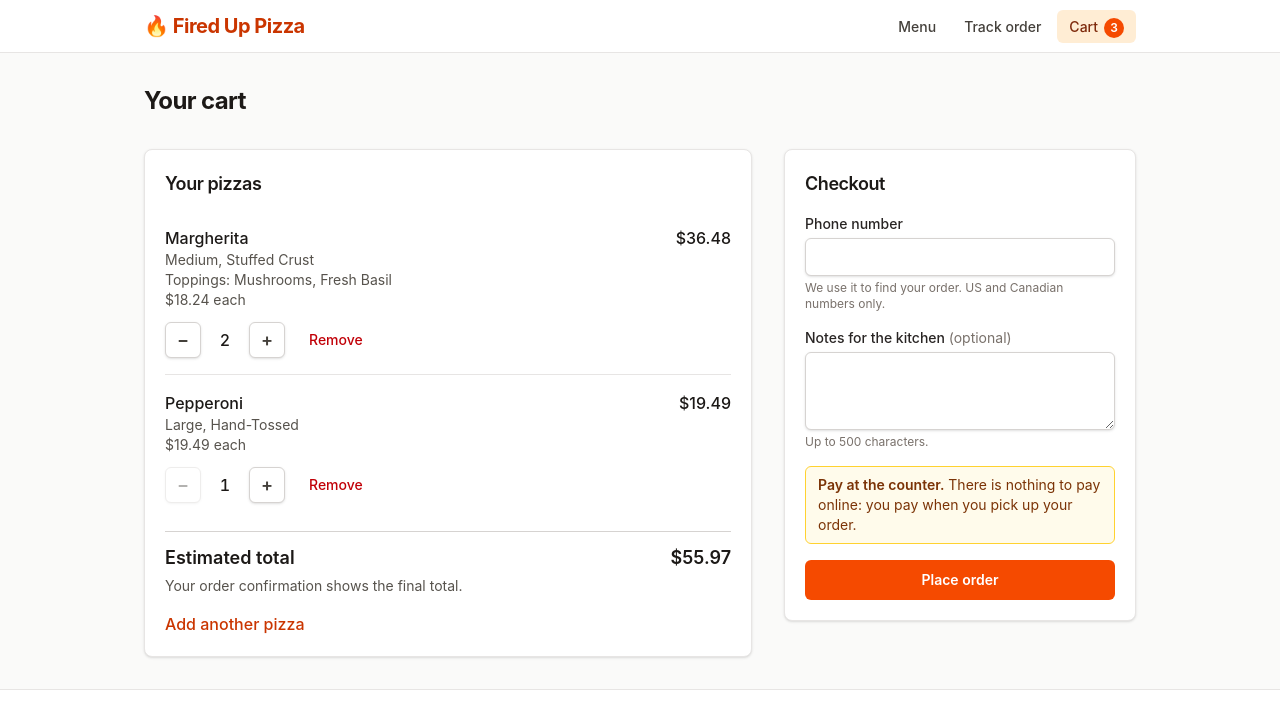
Test: CartPage › lines › changes a line's quantity with its buttons and updates every total
Click the button named "Increase quantity of Pepperoni".
click(267, 485)  # box [249, 467, 285, 503]
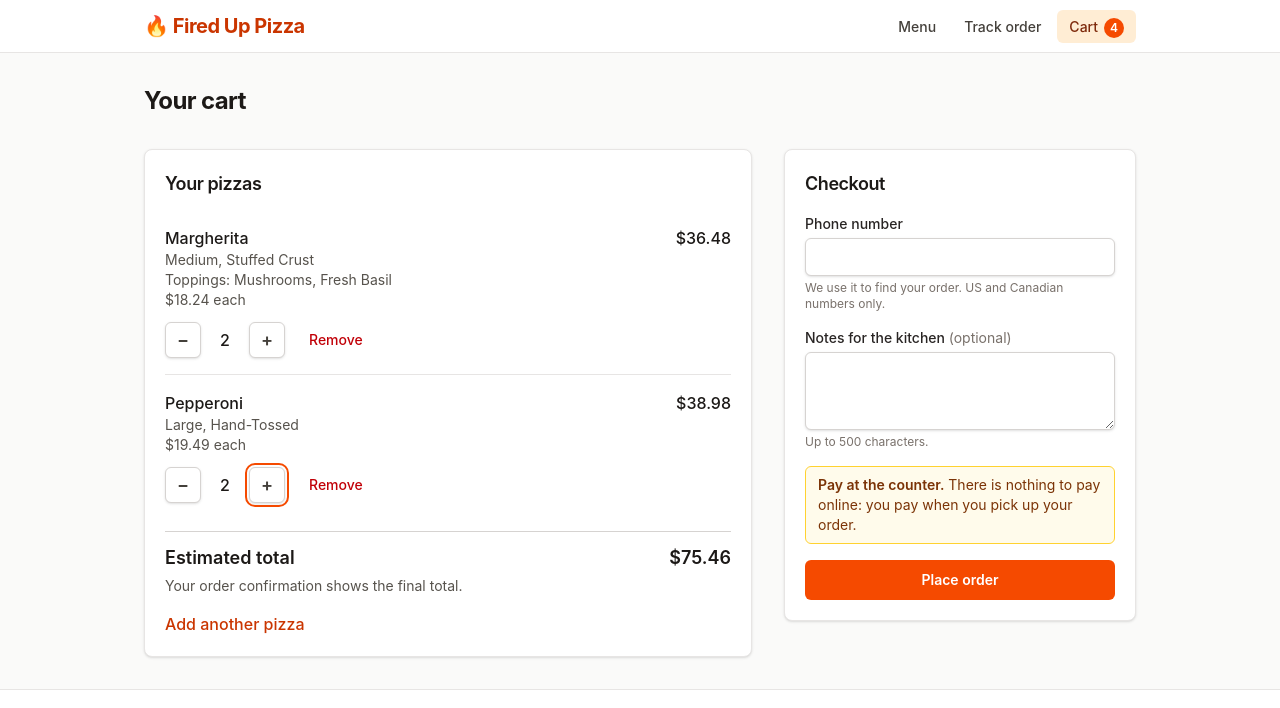
Result: the text named "Quantity of Pepperoni" reads "2" at [220, 475, 230, 495]
Result: the link with aria-label "Cart, 4 items" is shown at [1057, 10, 1136, 43]
Click the button named "Decrease quantity of Margherita".
click(183, 340)  # box [165, 322, 201, 358]
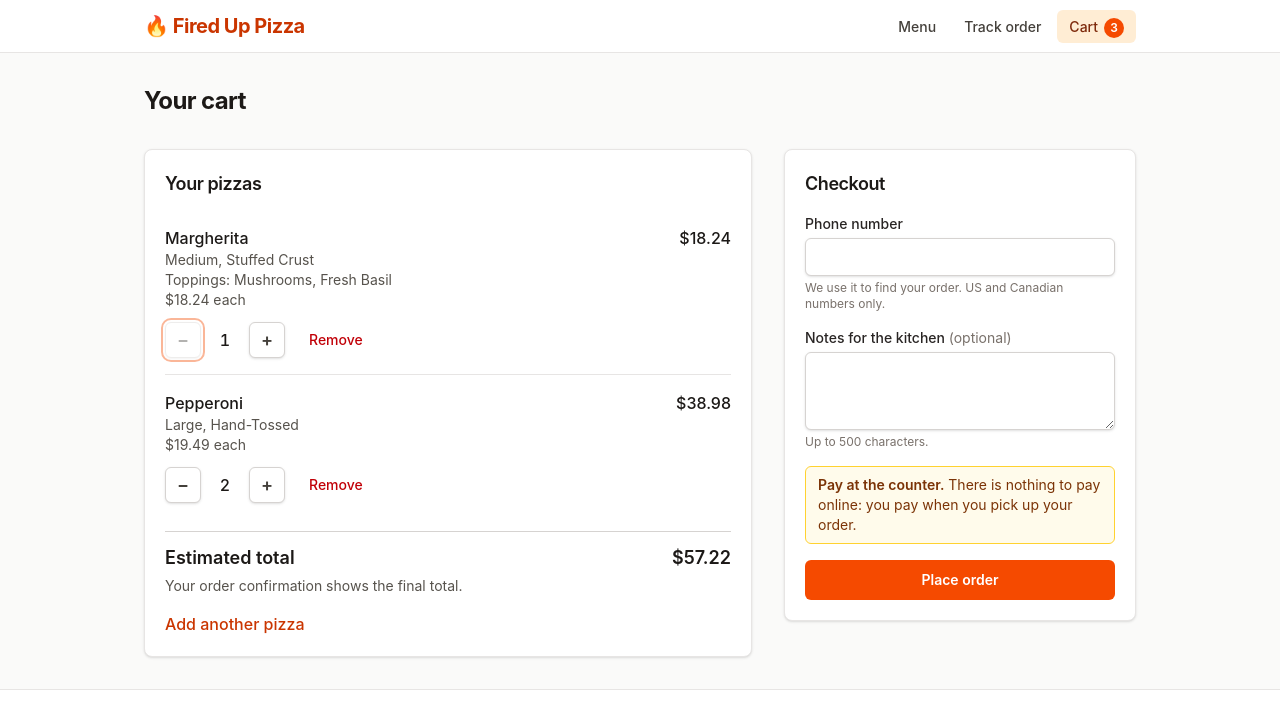
Result: the text named "Quantity of Margherita" reads "1" at [220, 330, 230, 350]
